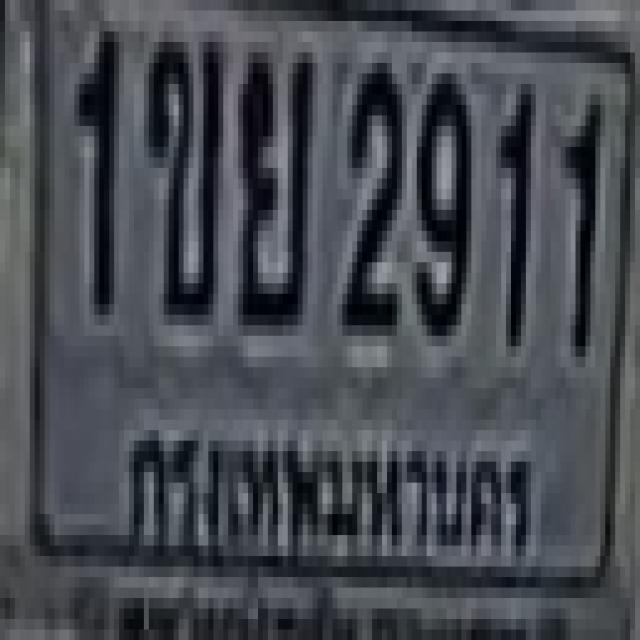1: (75, 21, 114, 304), (561, 89, 600, 341), (496, 73, 531, 336)
2: (342, 52, 397, 326)
9: (412, 63, 466, 325)
A02: (144, 26, 218, 310)
A34: (233, 42, 308, 315)
BKK: (125, 405, 539, 569)
